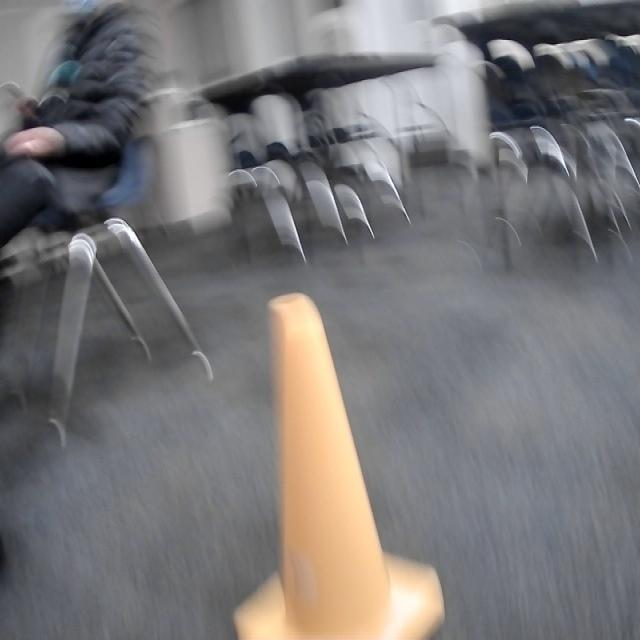cone: (224, 286, 446, 640)
